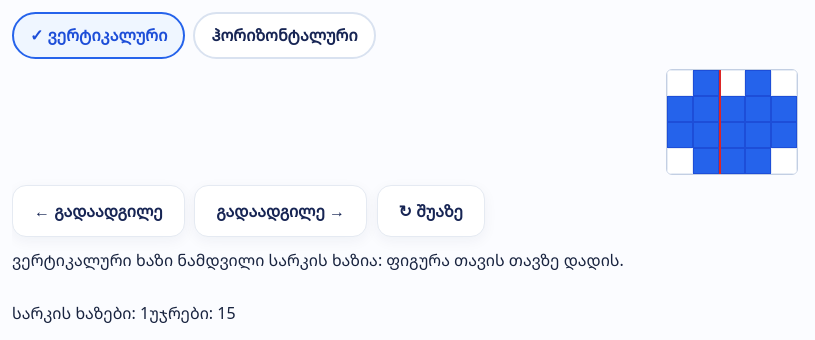
Test: tools: the mirror lab › says whether the line it is showing really is a mirror line
The image size is (815, 340).
Step 1. Click the button "ჰორიზონტალური" → (285, 36), box [193,12,376,59]
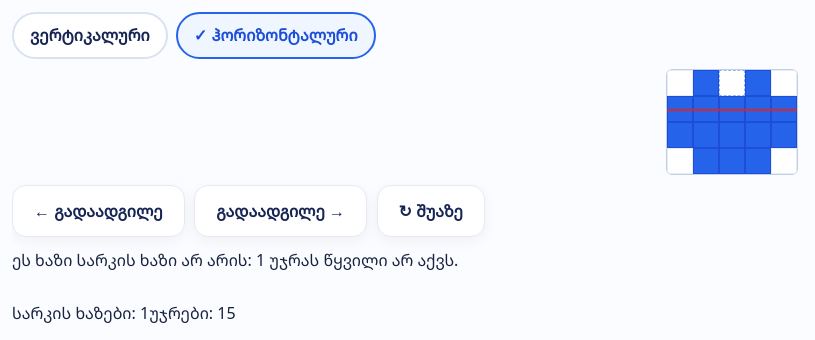
Expected: the message with class "lab-status" shows "სარკის ხაზი არ არის", [12,249,458,271]
Expected: the message with class "lab-status" reads "ეს ხაზი სარკის ხაზი არ არის: 1 უჯრას წყვილი არ აქვს.", [12,249,458,271]
